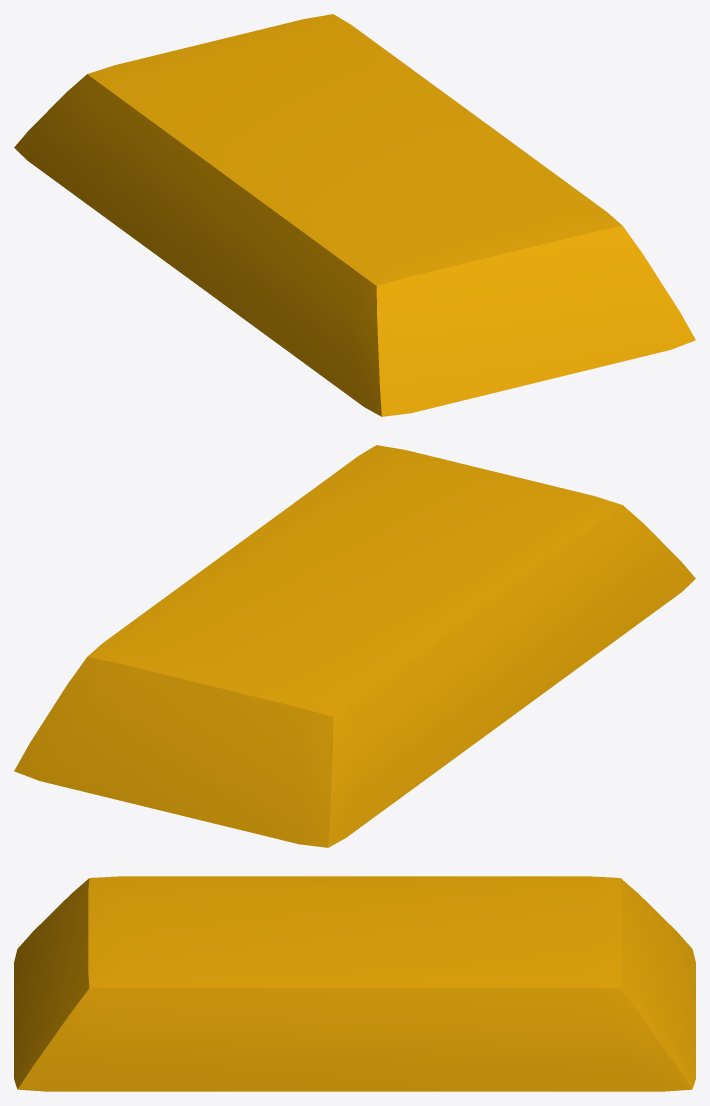
Rendered from Gold Bar.FBX.
3 renders of one model, top to bottom at view 1: azimuth 30°, elevation 25°; view 2: azimuth 150°, elevation 25°; view 3: azimuth 270°, elevation 25°, orthographic. The views are drawn at different scales.
Parts seen in each view (by area): view 1: Gold Bar; view 2: Gold Bar; view 3: Gold Bar.
Boxes of the visible parts, x1,y1,x2,y2 form: Gold Bar: (14, 14, 695, 416); Gold Bar: (14, 445, 695, 847); Gold Bar: (14, 876, 695, 1091).
Bounding box in the file's own units: 0.0973 × 0.03 × 0.1968.
